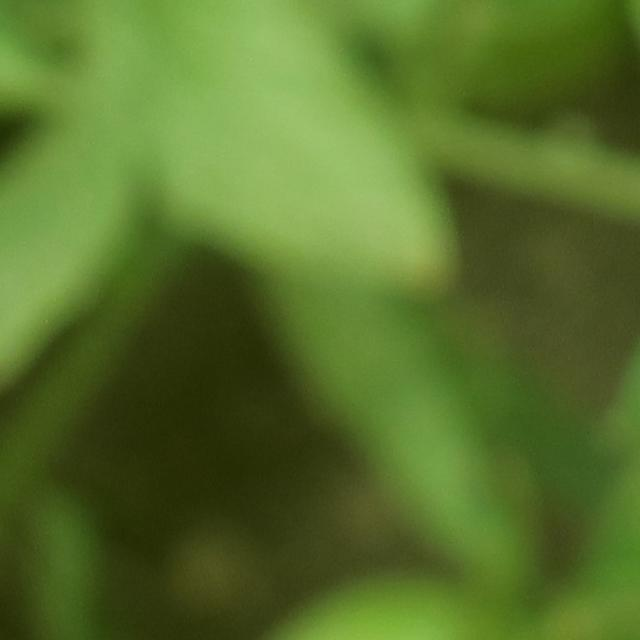Tomato leaf mosaic virus: (0, 0, 640, 154)
